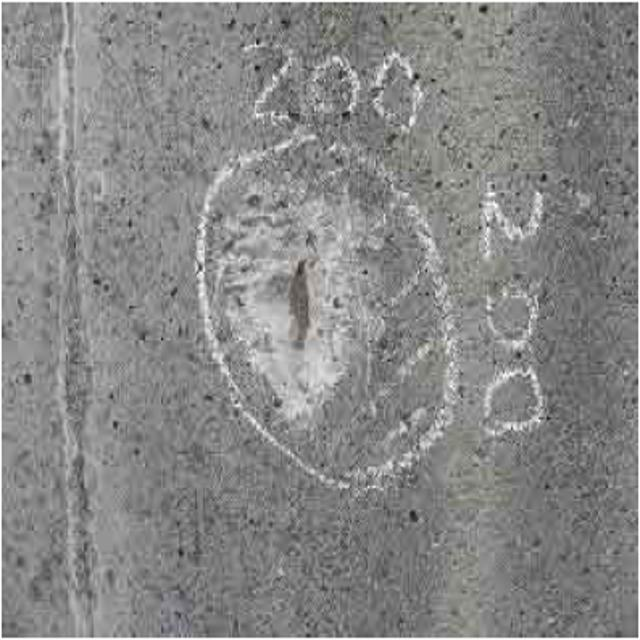spalling: (209, 172, 390, 408)
